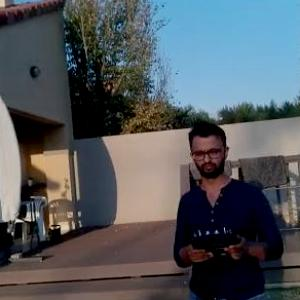follow: (169, 112, 288, 299)
